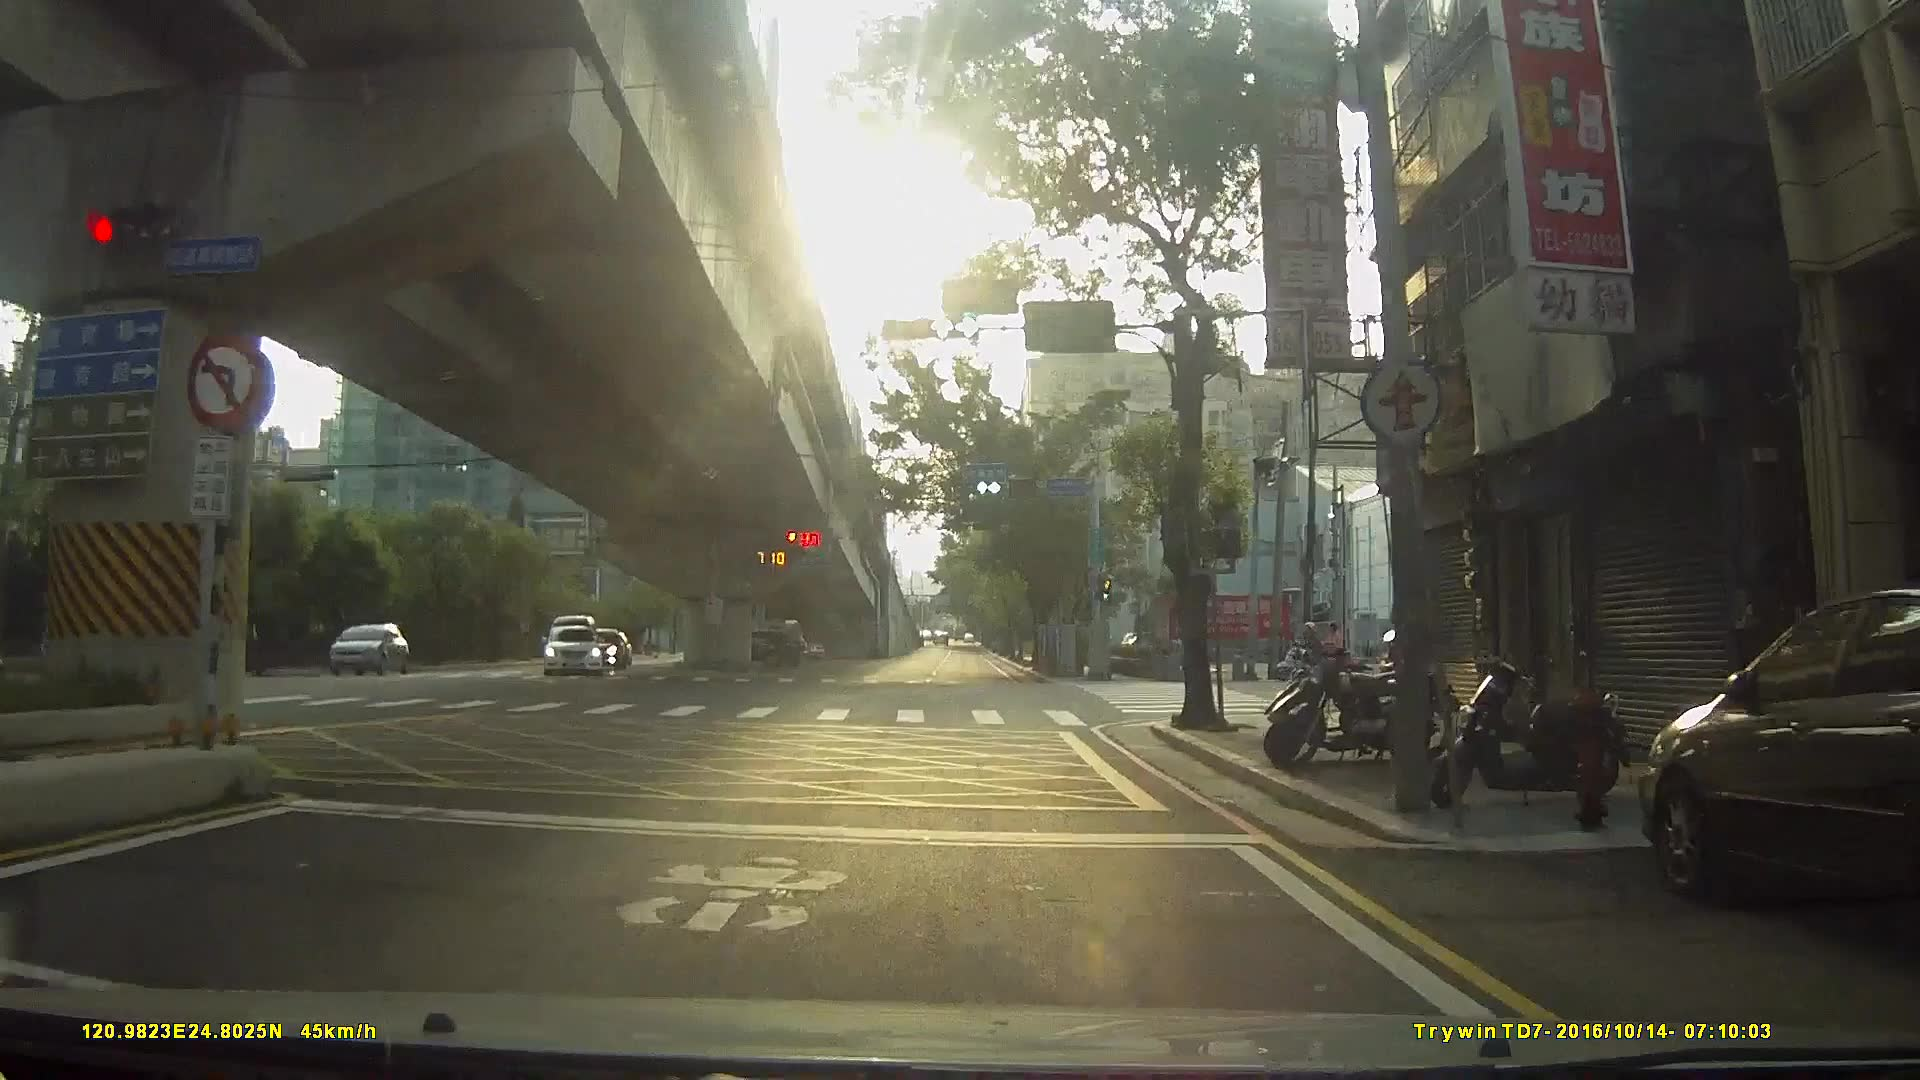vehicle: (1633, 589, 1920, 955), (318, 620, 402, 676), (535, 622, 603, 675), (729, 626, 804, 667)
